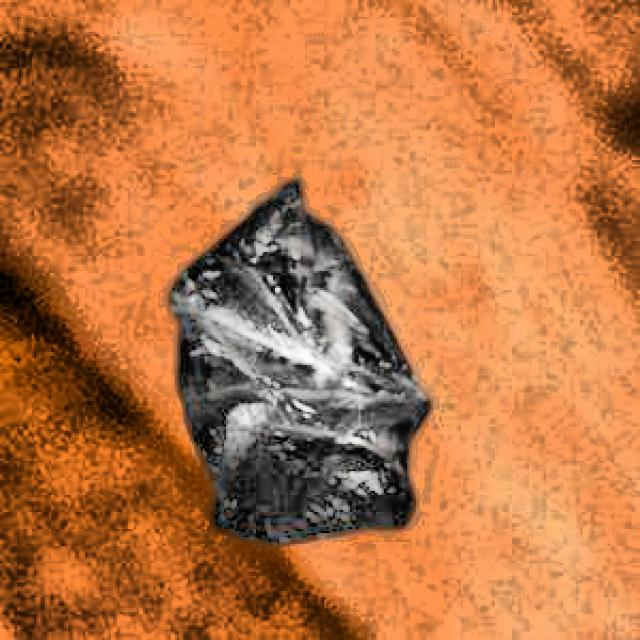Plastic: (158, 170, 438, 575)
